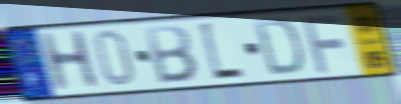0: (91, 28, 138, 90)
B: (143, 23, 201, 86)
D: (251, 16, 306, 77)
F: (299, 12, 346, 75)
H: (35, 28, 103, 95)
L: (195, 20, 248, 85)
